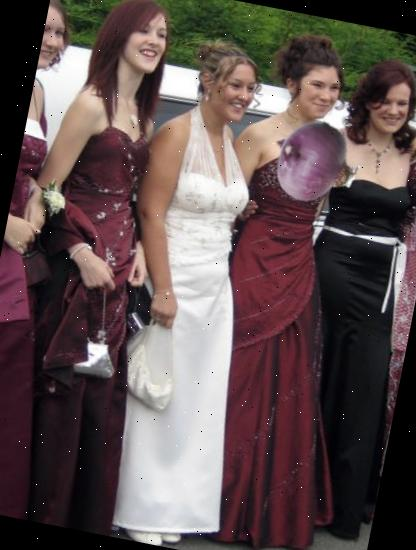Onion: (262, 111, 366, 214)
